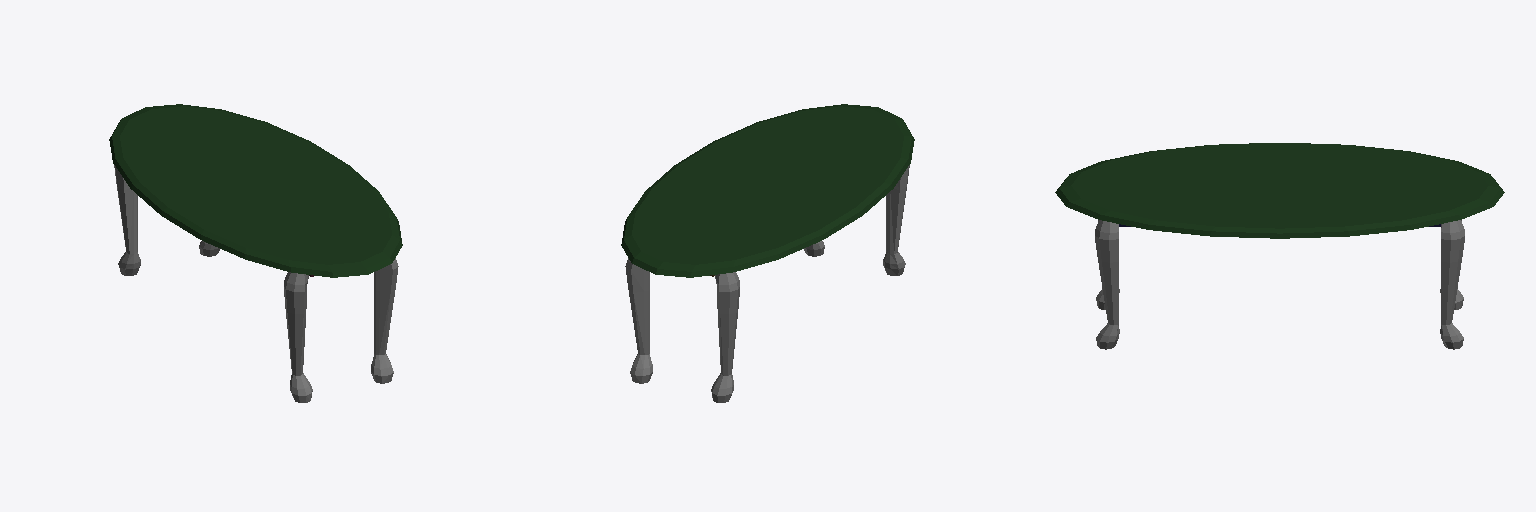
Rendered from Table.obj.
3 views of the same model, side by side, from view 1: azimuth 30°, elevation 25°; view 2: azimuth 150°, elevation 25°; view 3: azimuth 270°, elevation 25° (orthographic).
Visible parts, largest first — view 1: Table TableTop, Table Legs; view 2: Table TableTop, Table Legs; view 3: Table TableTop, Table Legs.
Part boxes in pixels (x1,y1,x2,y2): Table TableTop: (109, 104, 402, 277); Table Legs: (114, 165, 398, 402); Table TableTop: (621, 104, 914, 277); Table Legs: (625, 165, 909, 402); Table TableTop: (1055, 143, 1504, 238); Table Legs: (1095, 220, 1464, 349).
Bounding box in the file's own units: 60.01 × 42.49 × 123.